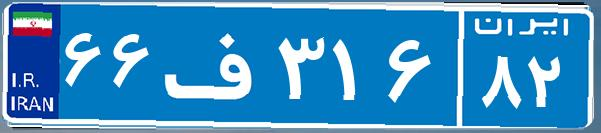1: (330, 28, 385, 110)
2: (525, 38, 570, 115)
3: (273, 28, 330, 110)
6: (385, 28, 445, 110), (57, 26, 110, 107), (110, 28, 158, 105)
8: (475, 38, 525, 113)
ف: (158, 15, 273, 115)
